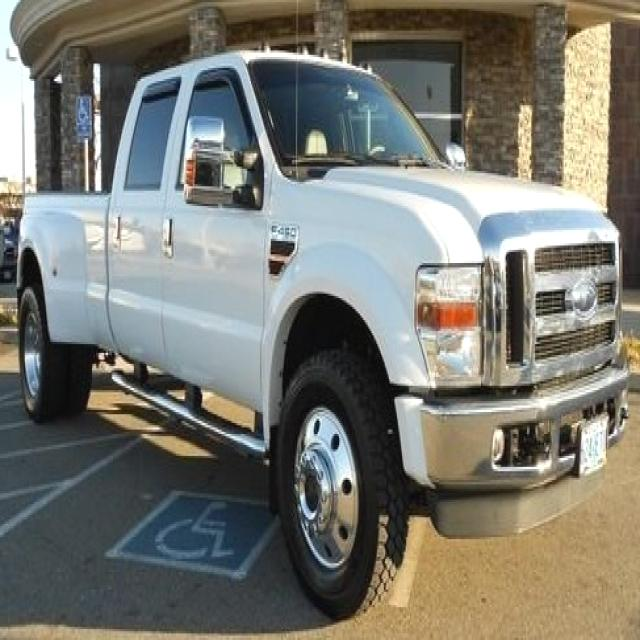CMT: (32, 54, 640, 592)
